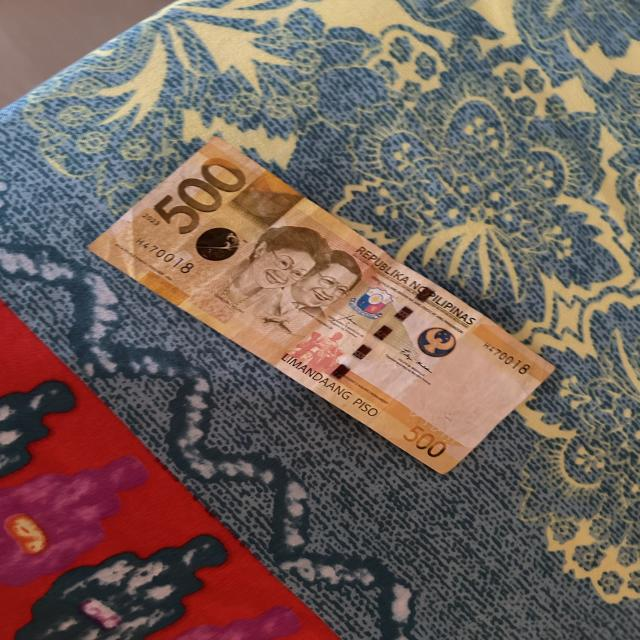concealed_value: (236, 176, 294, 222)
optically_variable_device: (196, 227, 241, 260)
value: (147, 159, 249, 232)
watermark: (403, 337, 517, 437)
